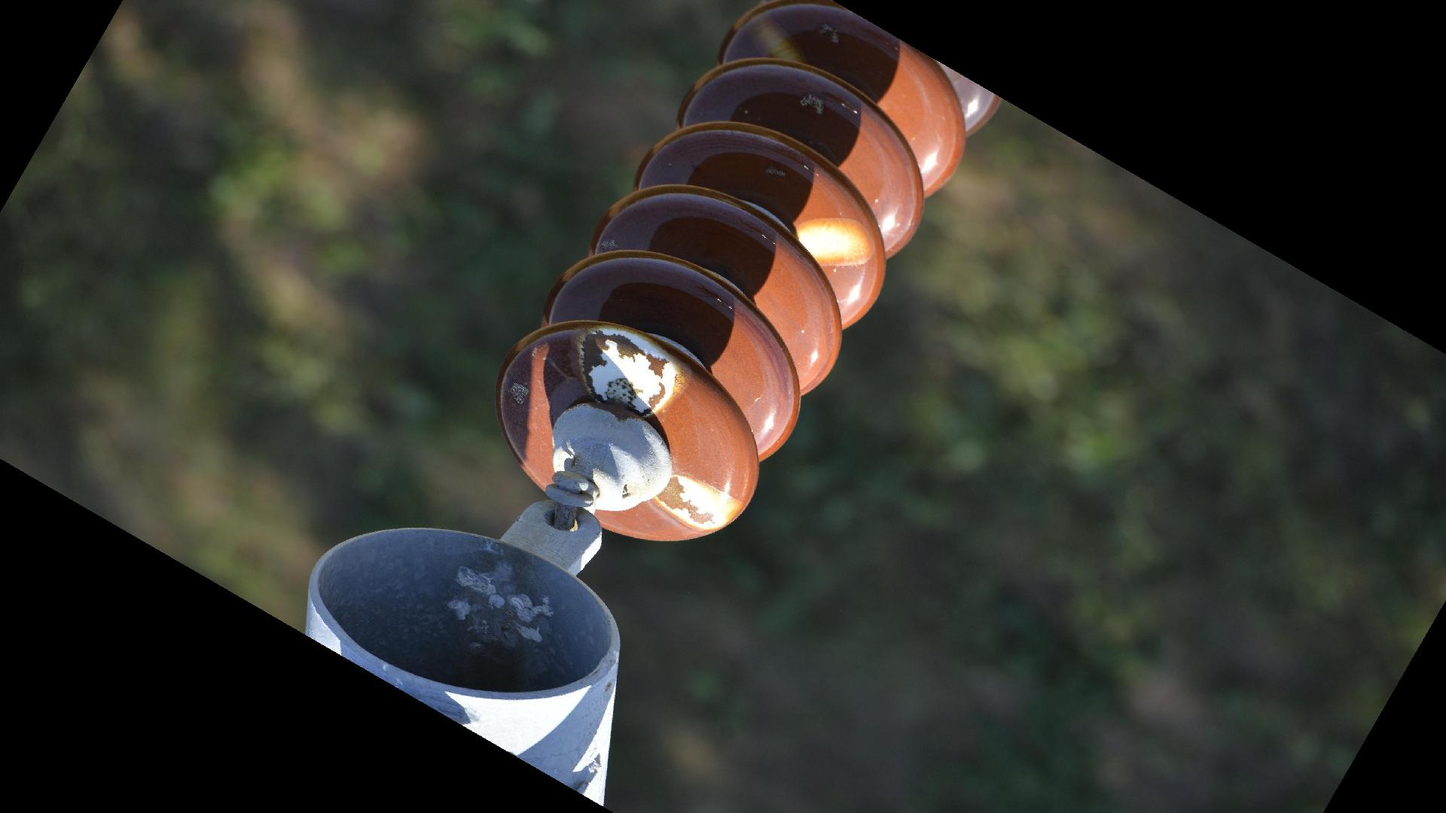insulator: (487, 1, 1008, 555)
insulator_flashover: (574, 319, 691, 419), (649, 469, 746, 535), (792, 215, 880, 270), (749, 18, 809, 68)
